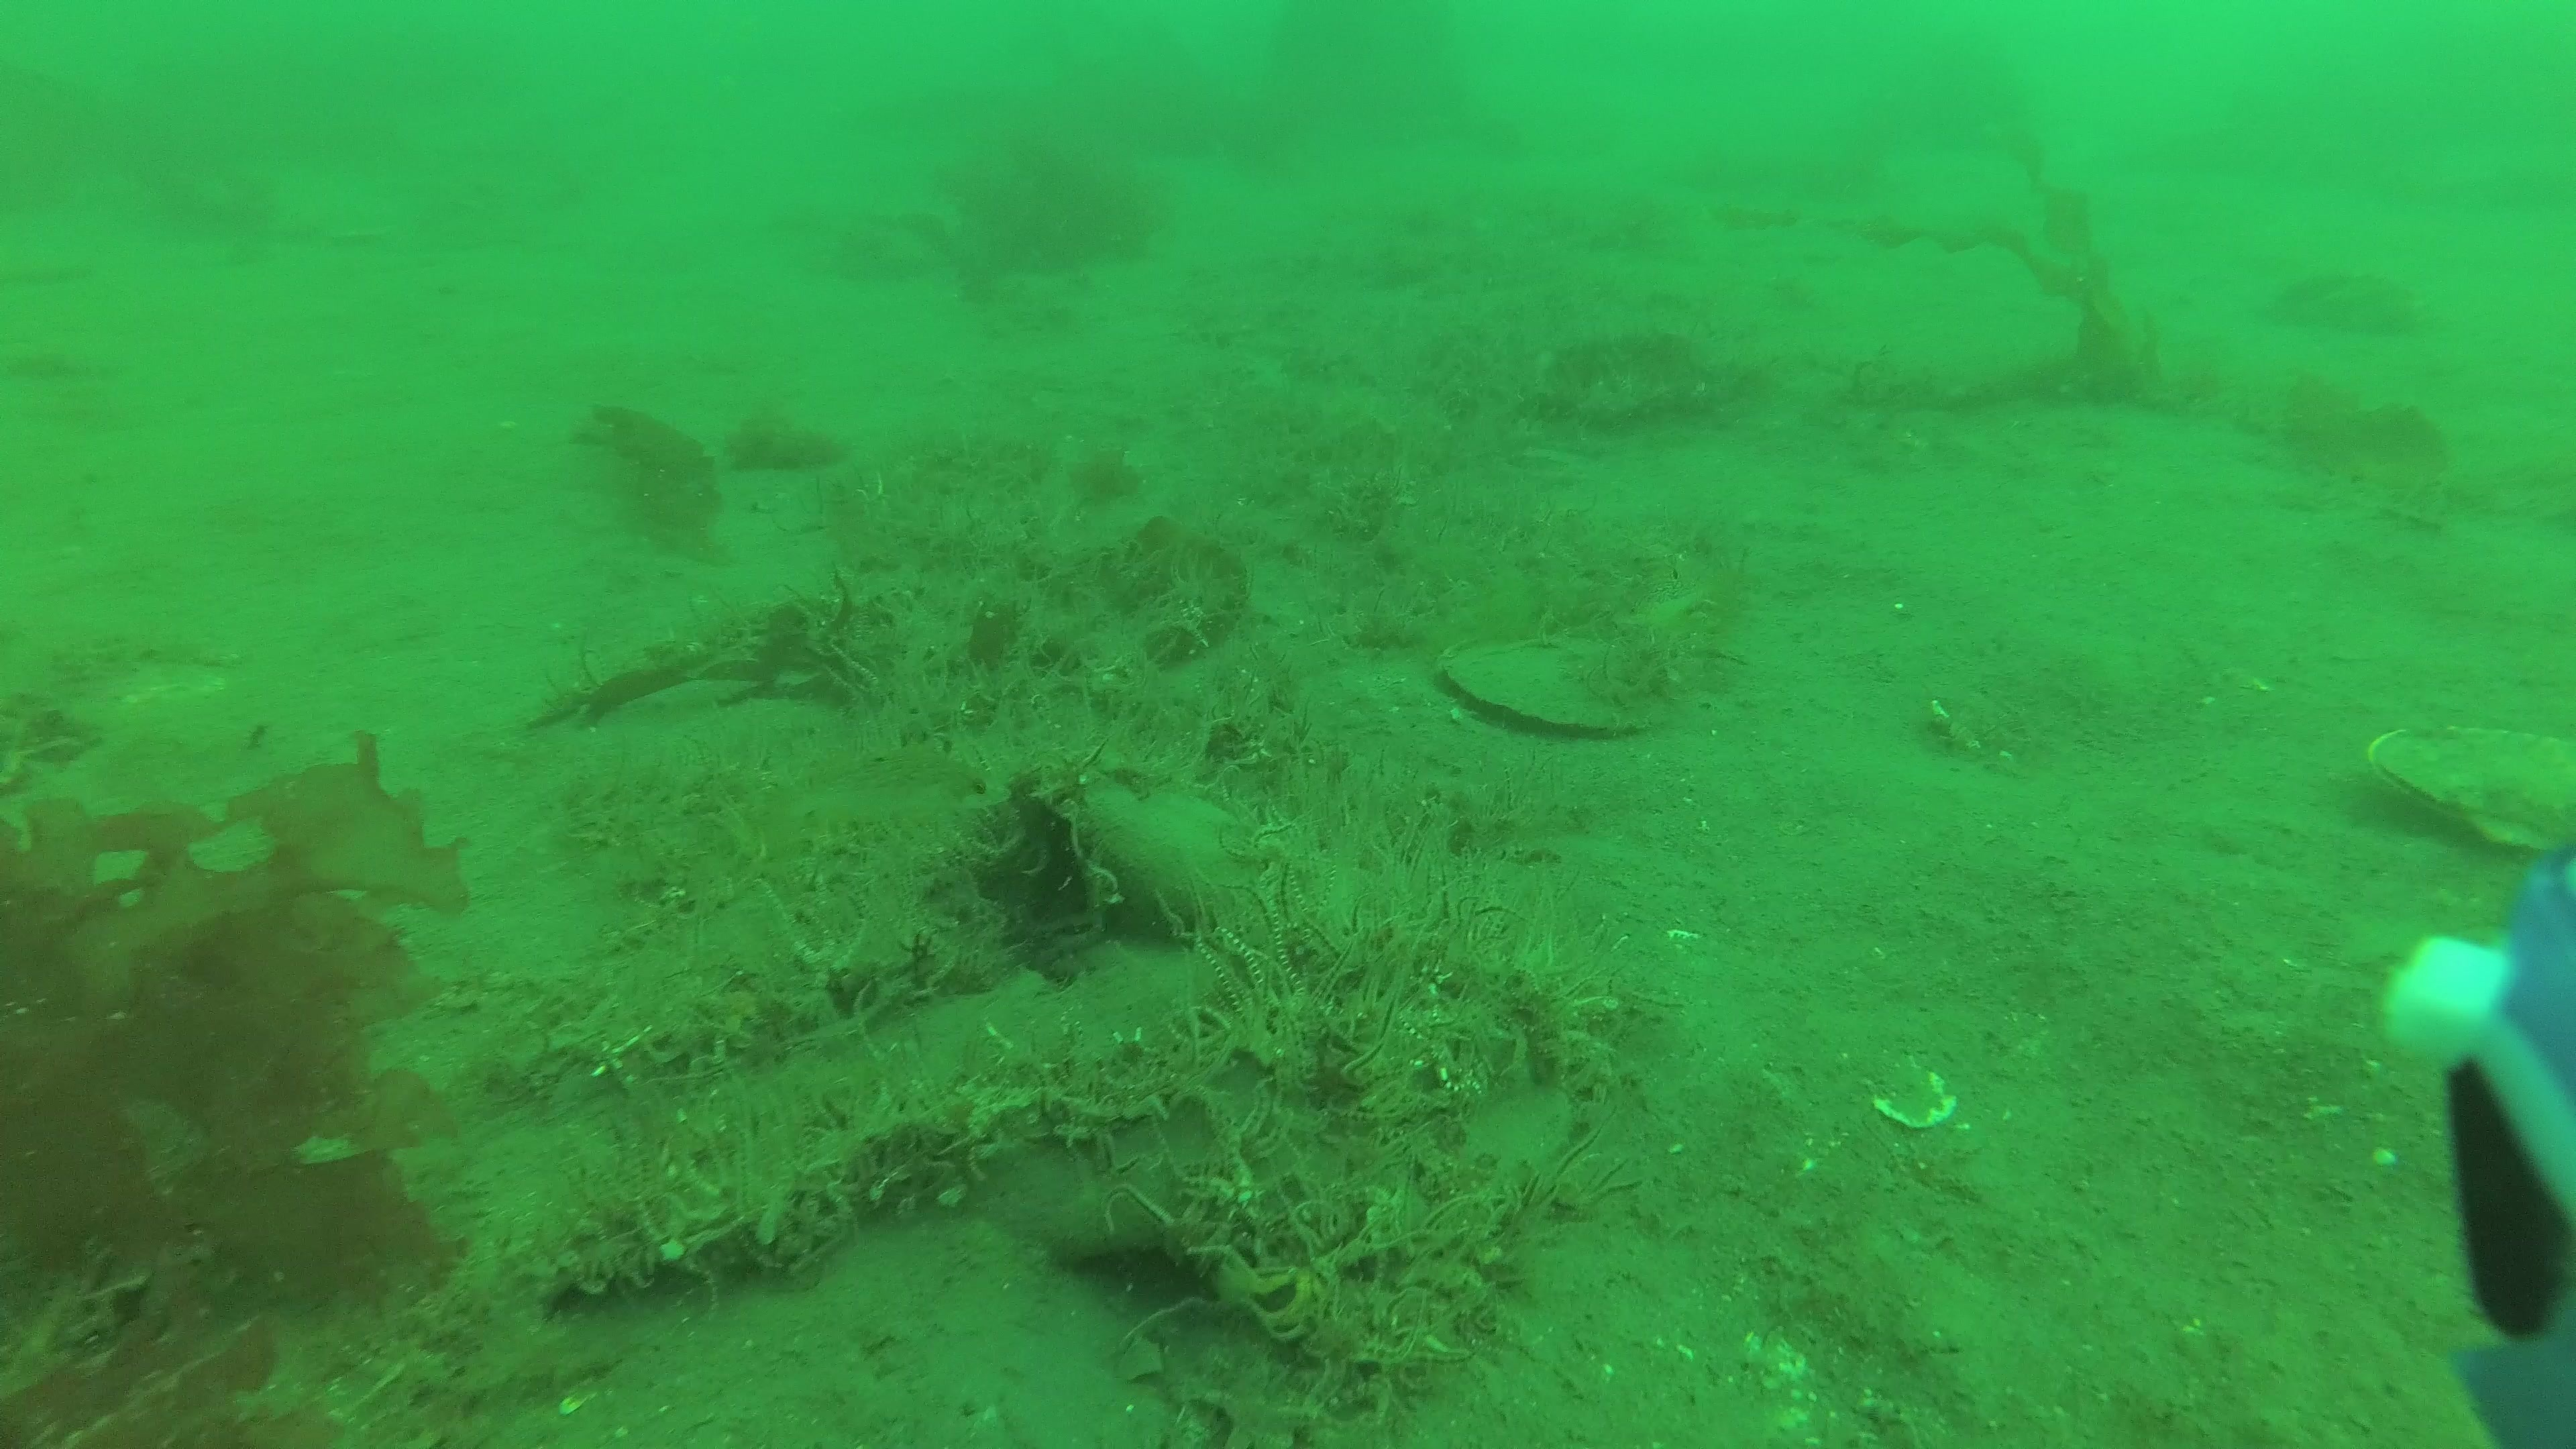scallop: (2365, 720, 2576, 860), (1440, 635, 1647, 736)
